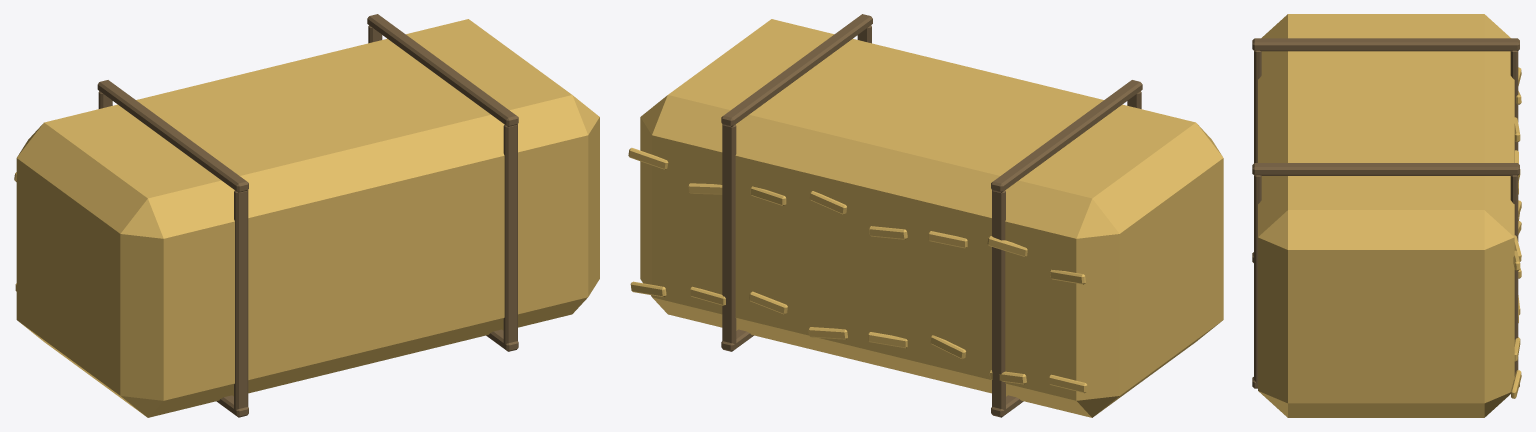
File: hay_bale_square.glb
3 renders of one model, left to right at view 1: azimuth 30°, elevation 25°; view 2: azimuth 150°, elevation 25°; view 3: azimuth 270°, elevation 25°, orthographic. The views are drawn at different scales.
Visible parts, largest first — view 1: hay_bale_square; view 2: hay_bale_square; view 3: hay_bale_square.
Boxes of the visible parts, box(x1,y1,x2,y2) form: hay_bale_square: box(14, 14, 599, 417); hay_bale_square: box(628, 14, 1223, 417); hay_bale_square: box(1252, 14, 1521, 417).
Size of the model in its own units: 0.96 by 0.448 by 0.4928.
